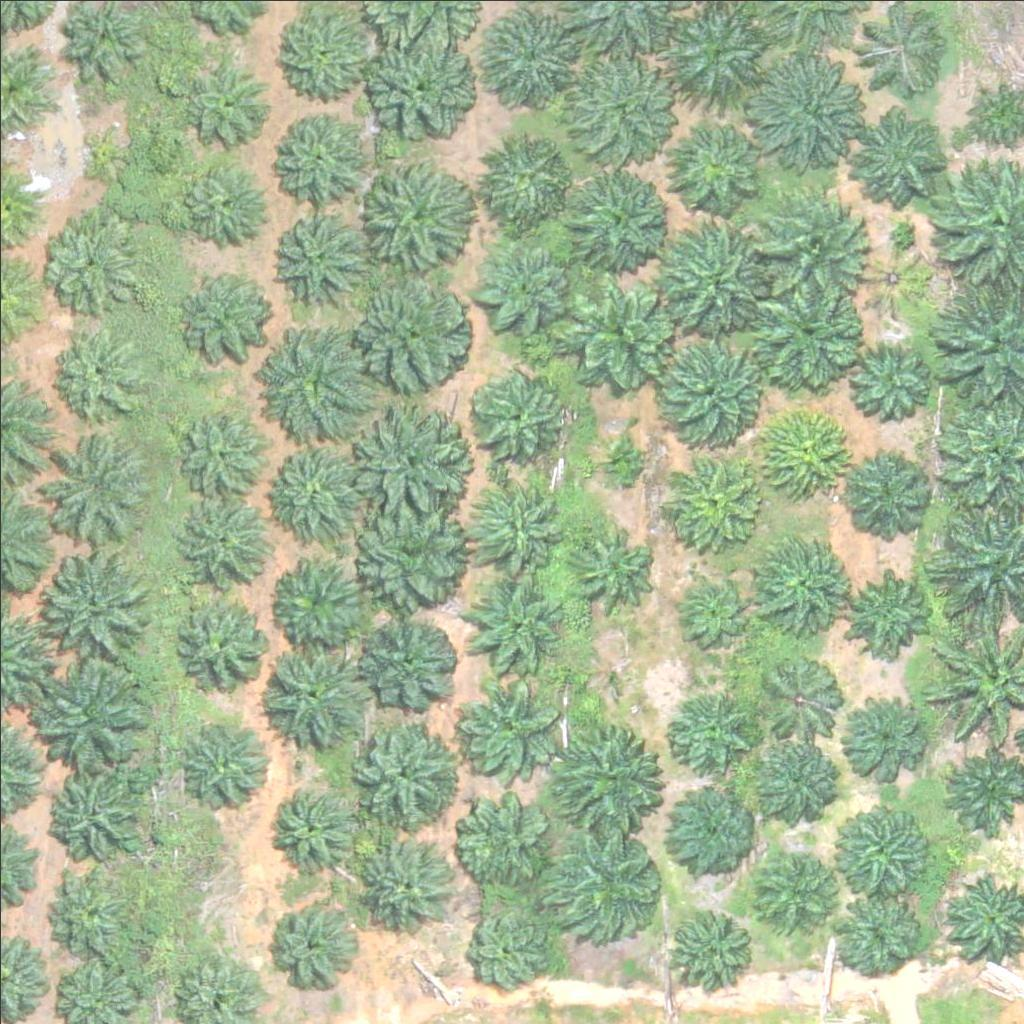Kelapa_Sawit: (752, 182, 877, 308), (646, 326, 771, 452), (649, 210, 774, 336), (554, 270, 679, 396), (537, 820, 662, 946), (751, 46, 876, 172), (255, 328, 368, 441), (357, 401, 470, 514), (37, 655, 149, 769), (752, 280, 864, 394), (262, 640, 374, 753), (345, 712, 457, 825), (352, 493, 464, 606), (54, 436, 154, 537), (178, 708, 278, 809), (173, 487, 273, 588), (172, 398, 272, 499), (263, 446, 363, 547), (271, 554, 371, 655), (355, 832, 455, 933), (368, 289, 468, 390), (662, 113, 762, 214), (569, 168, 669, 269), (474, 230, 574, 331), (463, 365, 563, 466), (463, 469, 563, 570), (468, 575, 568, 676), (453, 678, 553, 779), (550, 727, 650, 828), (570, 52, 670, 153), (367, 36, 467, 137), (45, 217, 145, 317), (50, 550, 150, 650), (45, 766, 145, 866), (169, 594, 269, 694), (359, 613, 459, 713), (851, 110, 951, 210), (746, 528, 846, 628), (449, 801, 549, 901), (362, 168, 462, 268), (269, 4, 369, 104), (57, 331, 145, 419), (273, 217, 361, 305), (274, 785, 362, 873), (840, 801, 928, 889), (835, 686, 923, 774), (847, 574, 935, 662), (843, 457, 931, 545), (757, 409, 845, 497), (671, 451, 759, 539), (473, 129, 561, 217), (670, 784, 757, 873), (177, 164, 264, 253), (838, 893, 925, 981), (751, 739, 838, 827), (40, 870, 127, 958), (181, 272, 268, 360), (265, 896, 352, 984), (845, 338, 932, 426), (756, 658, 843, 746), (748, 847, 835, 935), (662, 904, 749, 992), (665, 677, 752, 765), (461, 900, 548, 988), (271, 109, 358, 197), (571, 527, 658, 615), (672, 574, 747, 649), (190, 66, 265, 141), (863, 250, 925, 313), (595, 440, 645, 490), (84, 122, 134, 172)
